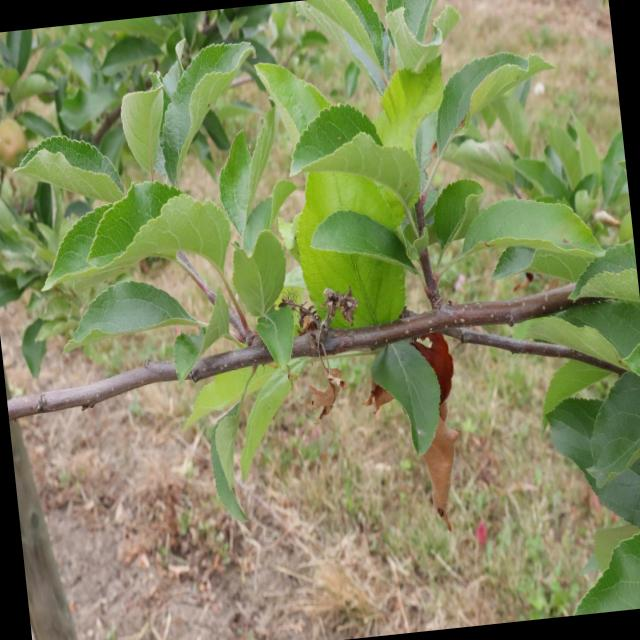-FireBlight-: (302, 325, 343, 418)
